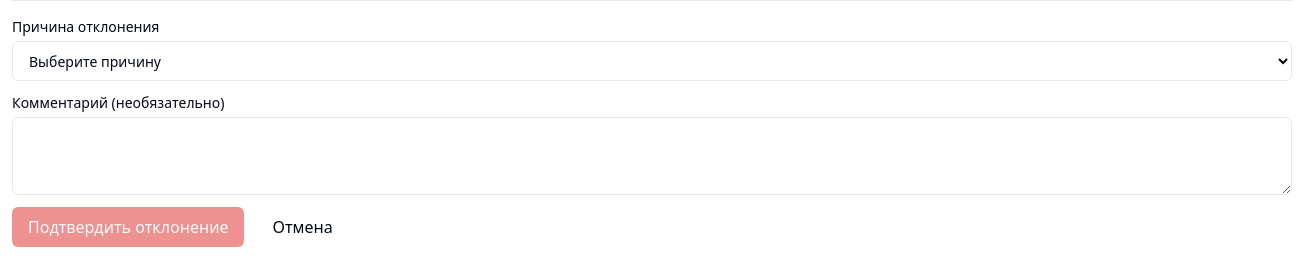
Test case: keeps the submit button disabled until a reason is selected
Expected: the button "Подтвердить отклонение" is disabled, [12,207,244,247]
Select "Дубликат объявления" in the dropdown labelled "Причина отклонения" at x=652, y=61, box [12,41,1292,81]
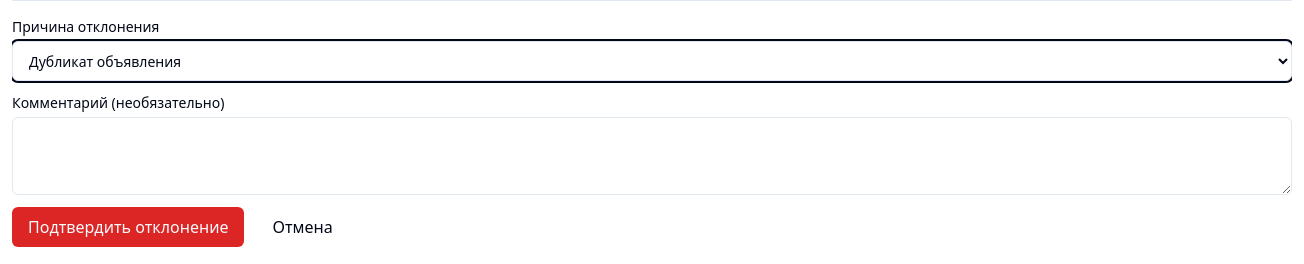
Expected: the button "Подтвердить отклонение" is enabled, [12,207,244,247]
